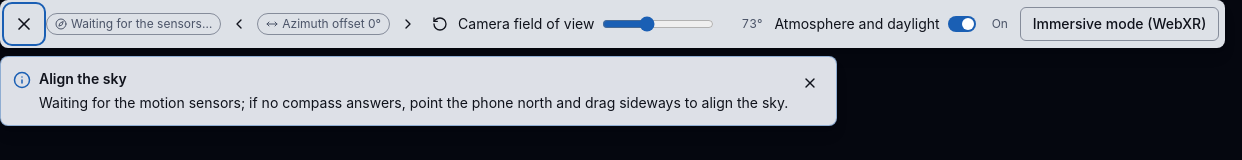
Test case: ArOverlay › offers the immersive mode only when the probe said supported and enters it through the engine
Click the button "Immersive mode (WebXR)": (1120, 24) [1020,7,1219,41]
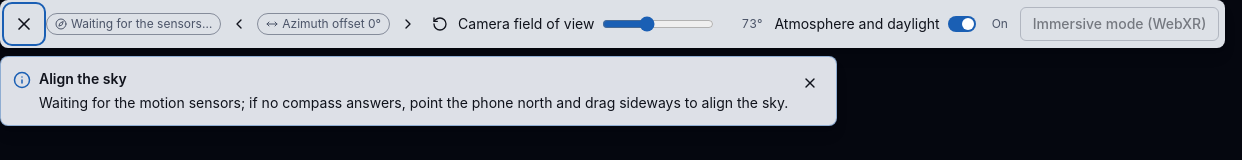
Result: the button "Immersive mode (WebXR)" is disabled at [1020,7,1219,41]
